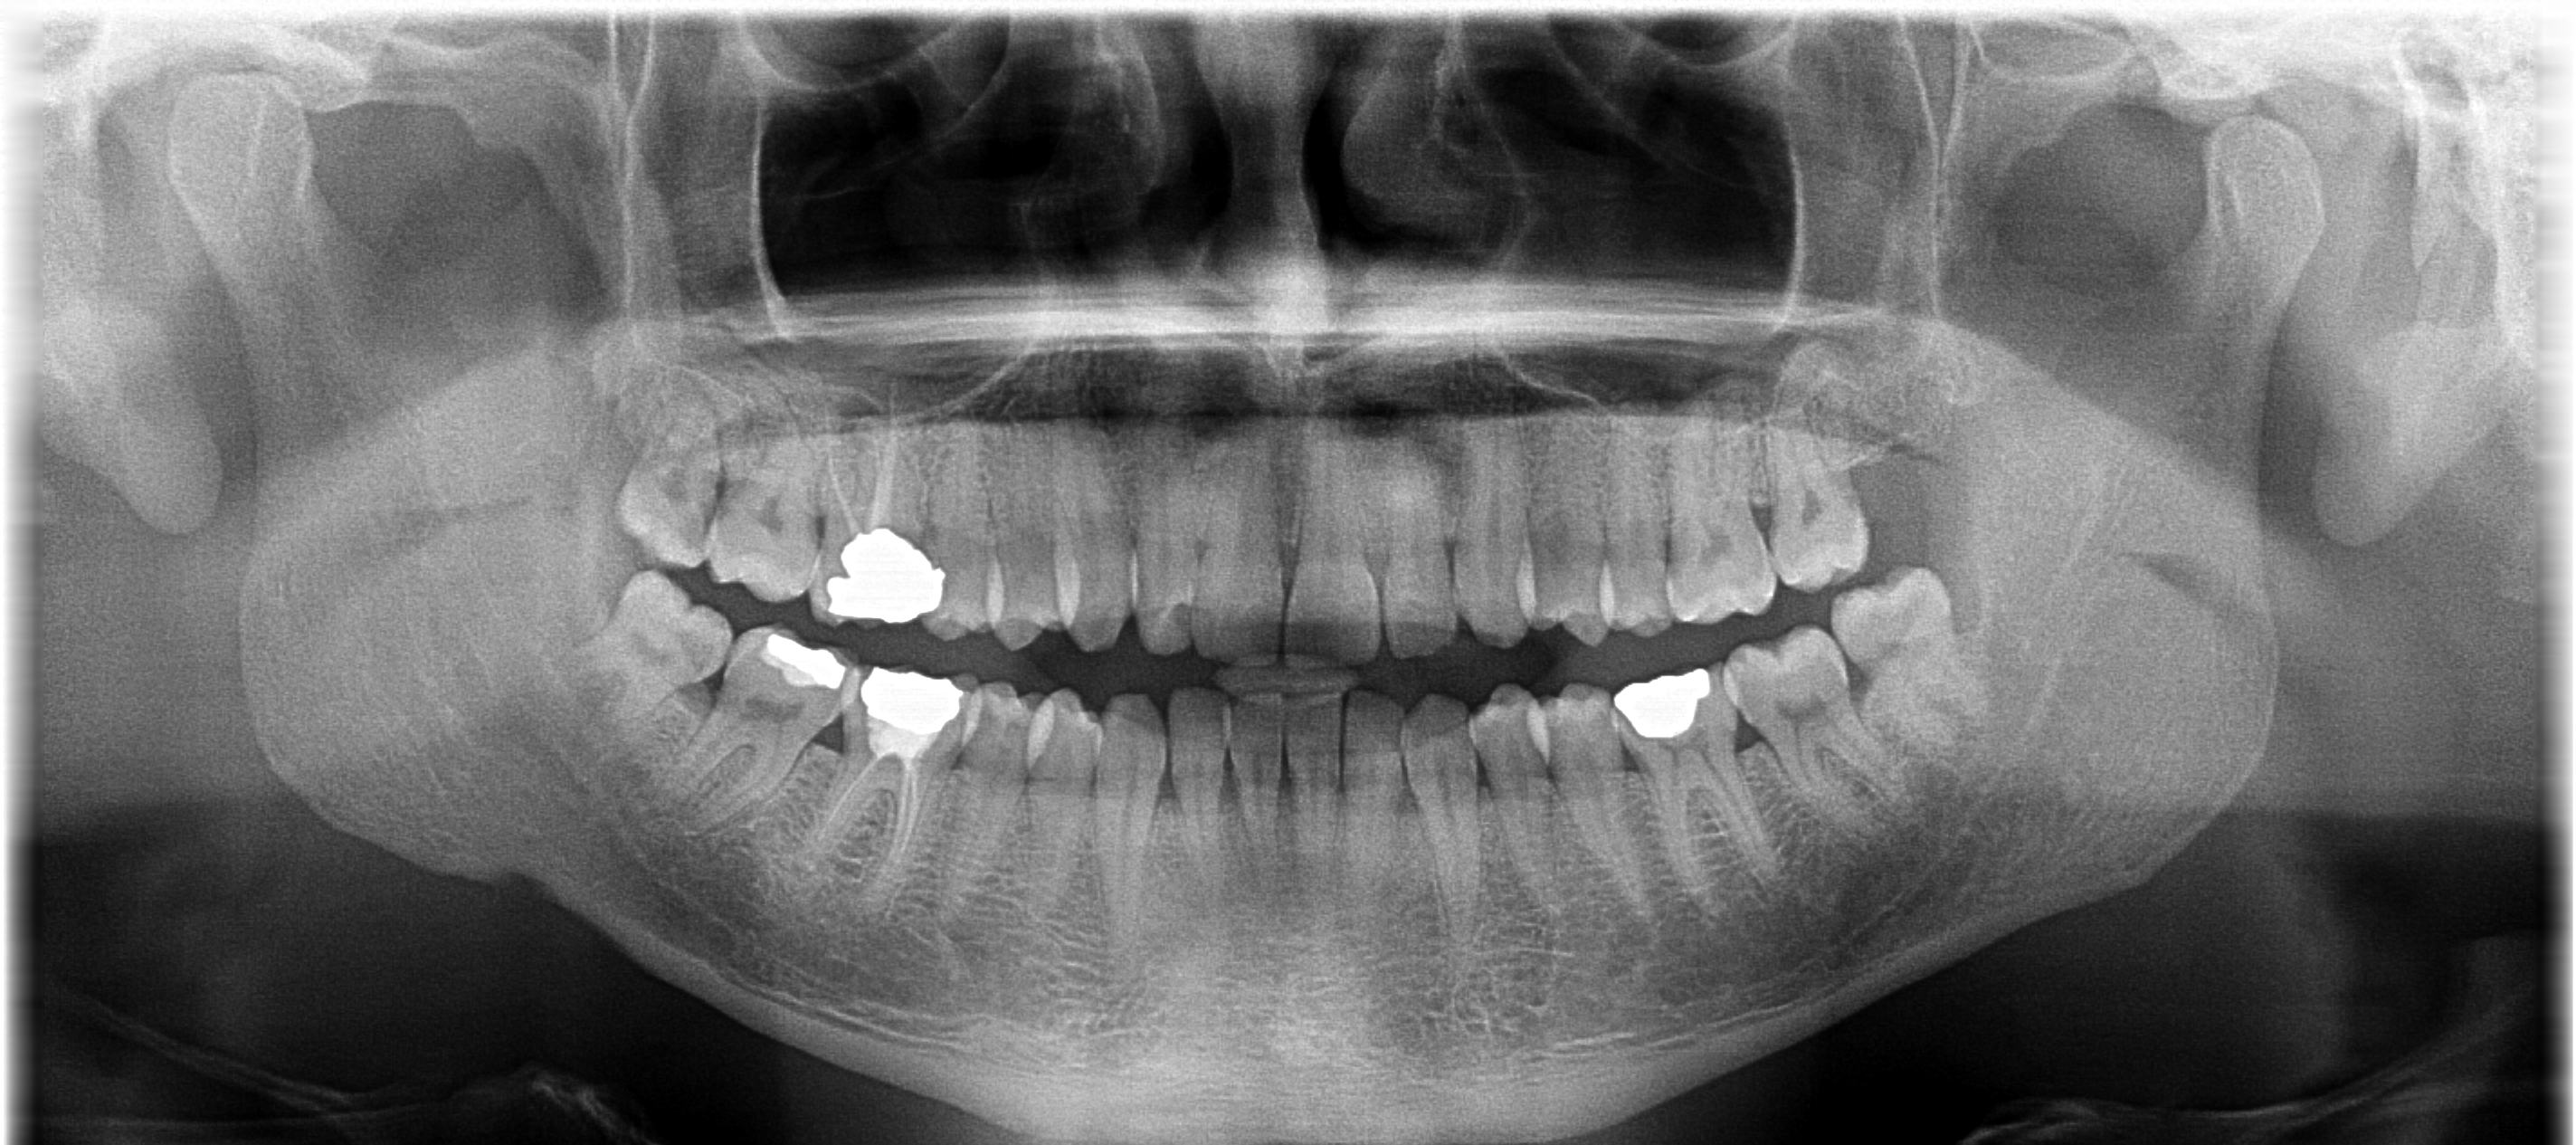apinamiento: (971, 639, 1203, 741), (968, 521, 1198, 623), (1385, 513, 1615, 614)
cordal: (1824, 593, 1994, 782), (720, 327, 890, 516)
tratamiento_conducto: (1472, 624, 1612, 862)
